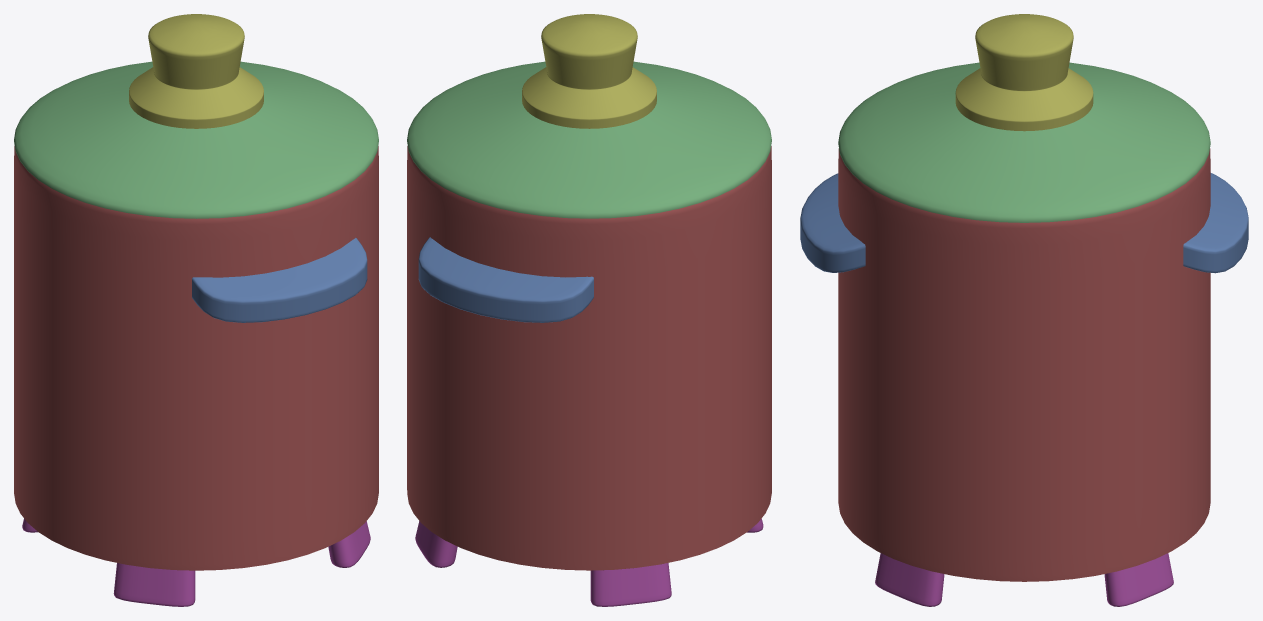
Rendered from Reiskocher_1_high.fbx.
The picture shows the model from 3 angles, left to right: view 1: azimuth 30°, elevation 25°; view 2: azimuth 150°, elevation 25°; view 3: azimuth 270°, elevation 25°; orthographic projection. The views are drawn at different scales.
Parts seen in each view (by area): view 1: pasted__Reiskocher_1_high; view 2: pasted__Reiskocher_1_high; view 3: pasted__Reiskocher_1_high.
Part boxes in pixels (bbox=[...]): pasted__Reiskocher_1_high: bbox=[14, 14, 378, 606]; pasted__Reiskocher_1_high: bbox=[407, 14, 771, 606]; pasted__Reiskocher_1_high: bbox=[800, 14, 1248, 606].
Bounding box in the file's own units: 0.2874 × 0.4444 × 0.3464.
